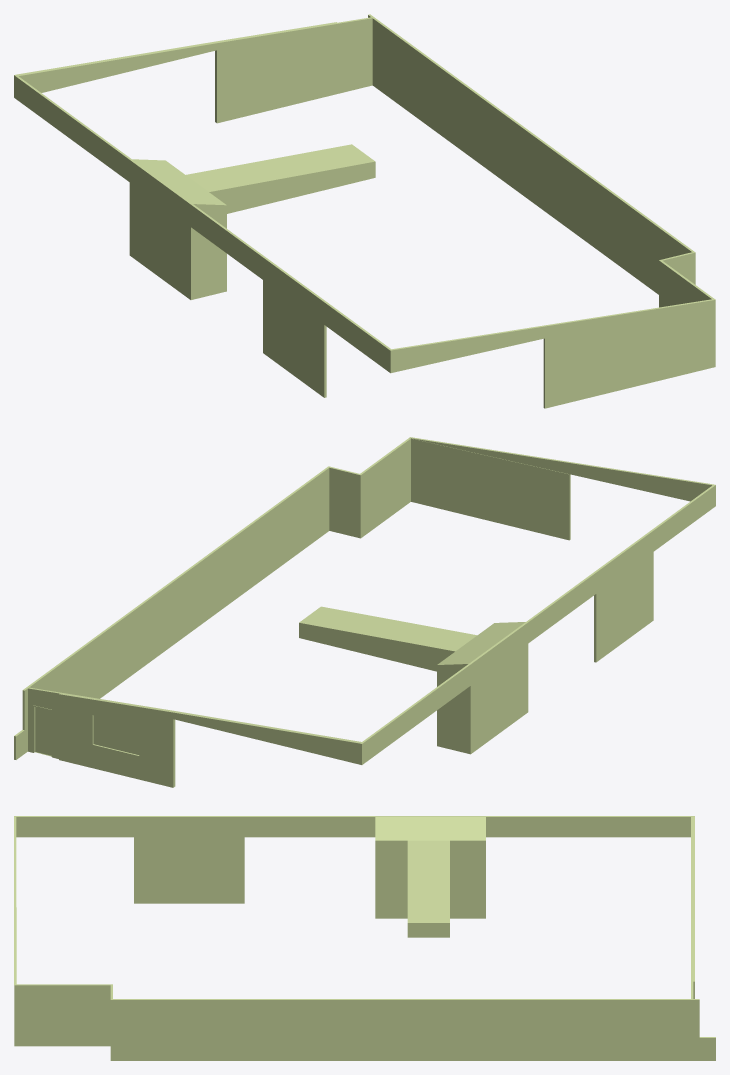
The model's file is outside_walls.obj.
The picture shows the model from 3 angles, top to bottom: view 1: azimuth 30°, elevation 25°; view 2: azimuth 150°, elevation 25°; view 3: azimuth 270°, elevation 25°; orthographic projection. The views are drawn at different scales.
Visible parts, largest first — view 1: Box001; view 2: Box001; view 3: Box001.
Part boxes in pixels (x1,y1,x2,y2): Box001: [14, 14, 715, 408]; Box001: [14, 437, 715, 787]; Box001: [14, 816, 715, 1060].
Bounding box in the file's own units: 626 × 160 × 1174.
